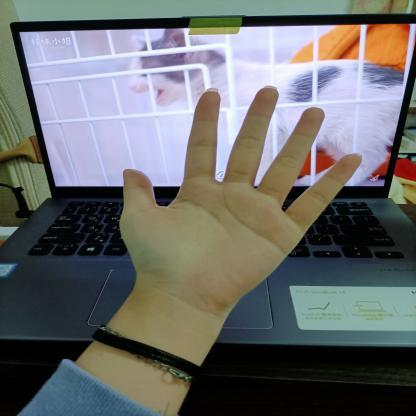bare_hand: (111, 79, 373, 316)
